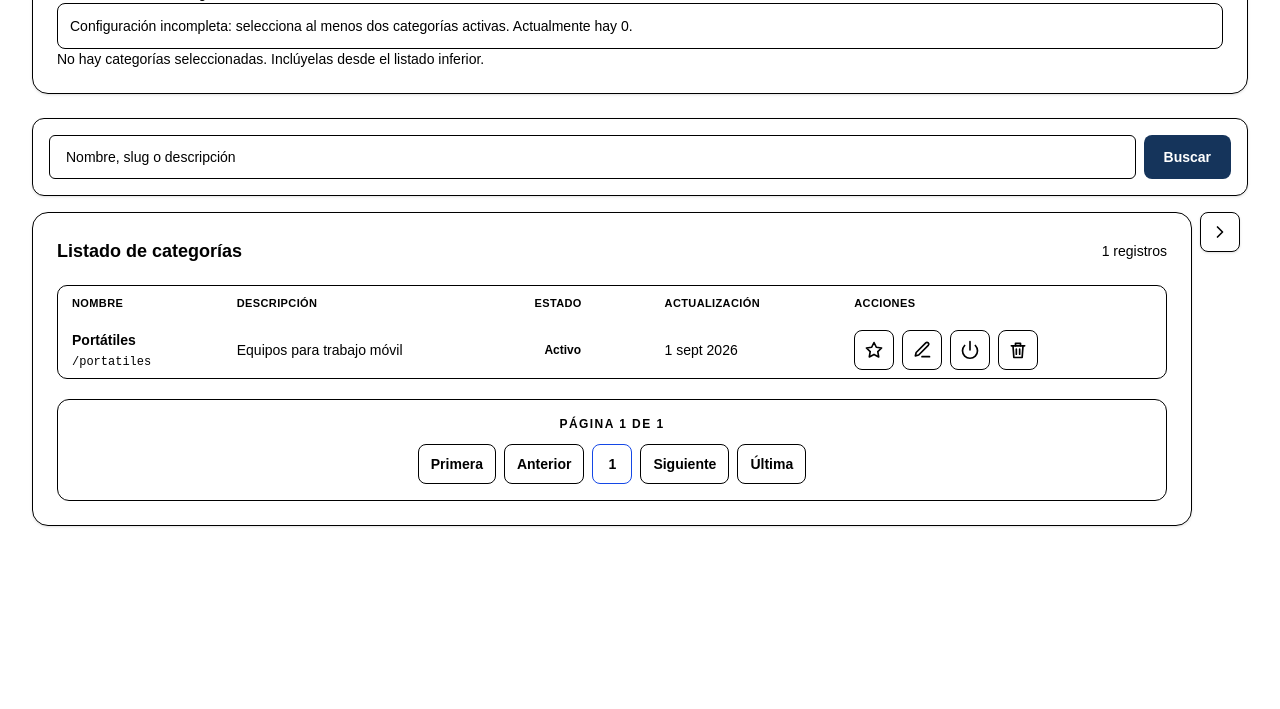
administrative categories and tags › requires confirmation before deactivating a category
(page scrolled)
Click the button named "Desactivar Portátiles": (970, 350) [950,330,990,370]
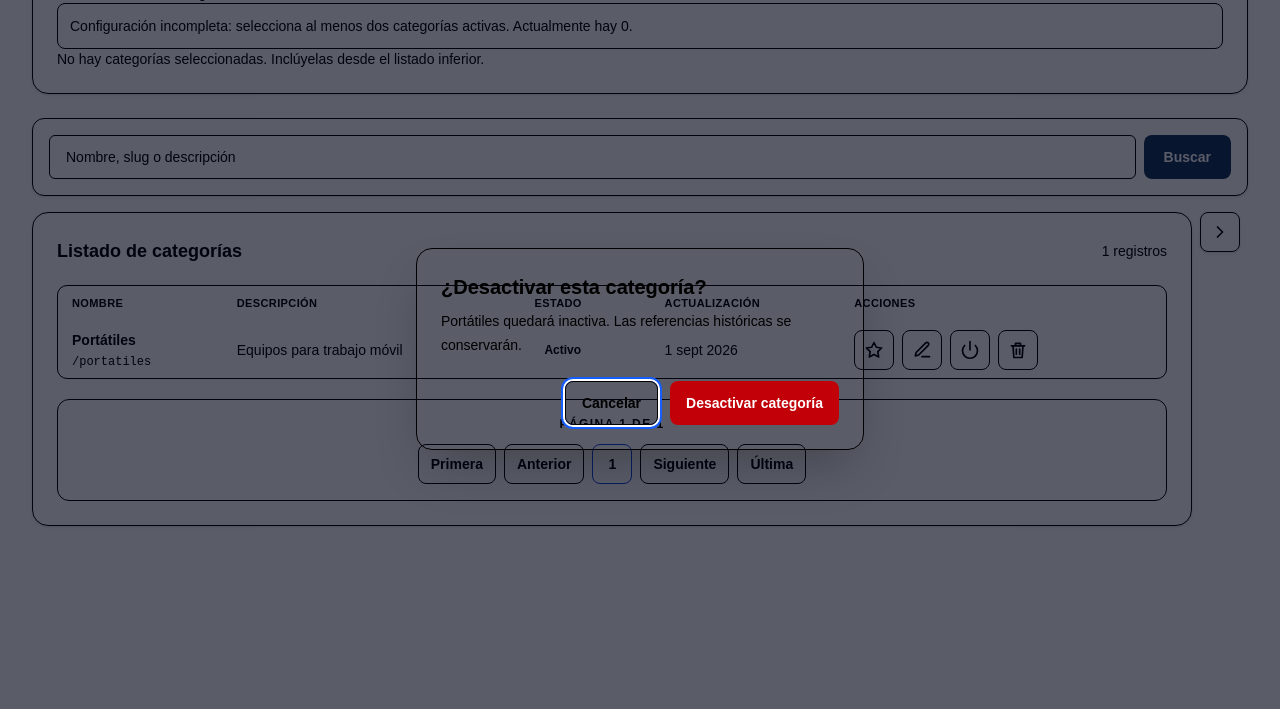
Click the button "Desactivar categoría": (754, 403) [670,381,839,425]
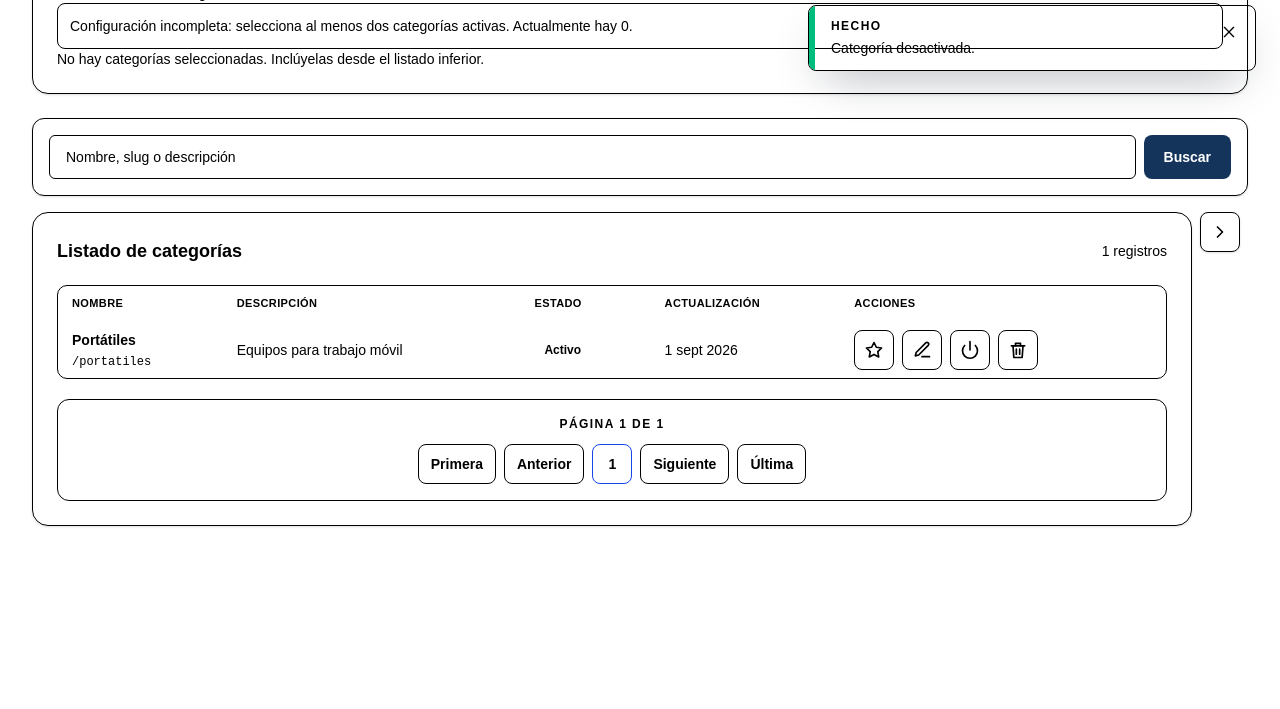
Now the text "Categoría desactivada." is shown, box [831,40,975,56]
